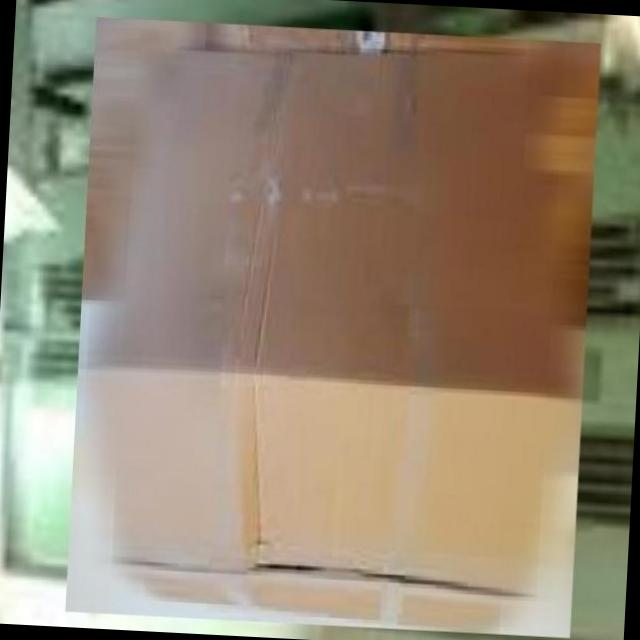box: (57, 7, 610, 640)
